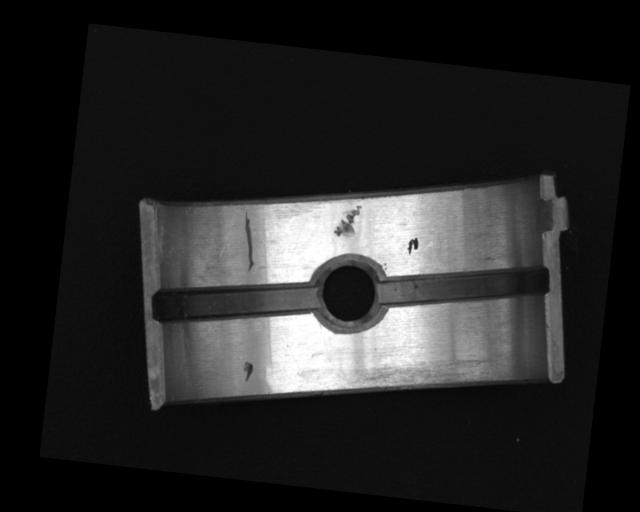blot: (405, 235, 421, 257)
bruise: (333, 202, 363, 239), (241, 361, 254, 382)
gap: (375, 249, 550, 323), (152, 264, 319, 338)
hole: (308, 255, 388, 336)
nick: (238, 209, 260, 272)
scratch: (345, 343, 492, 405)
